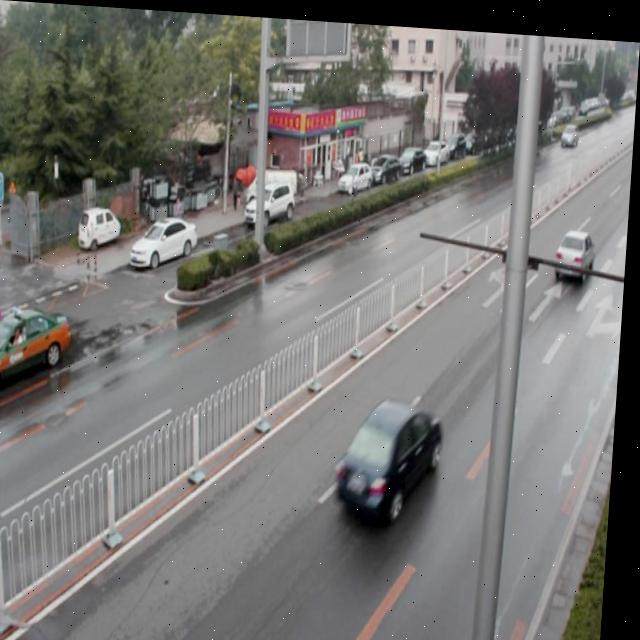car: (337, 390, 448, 521), (555, 220, 596, 274)
